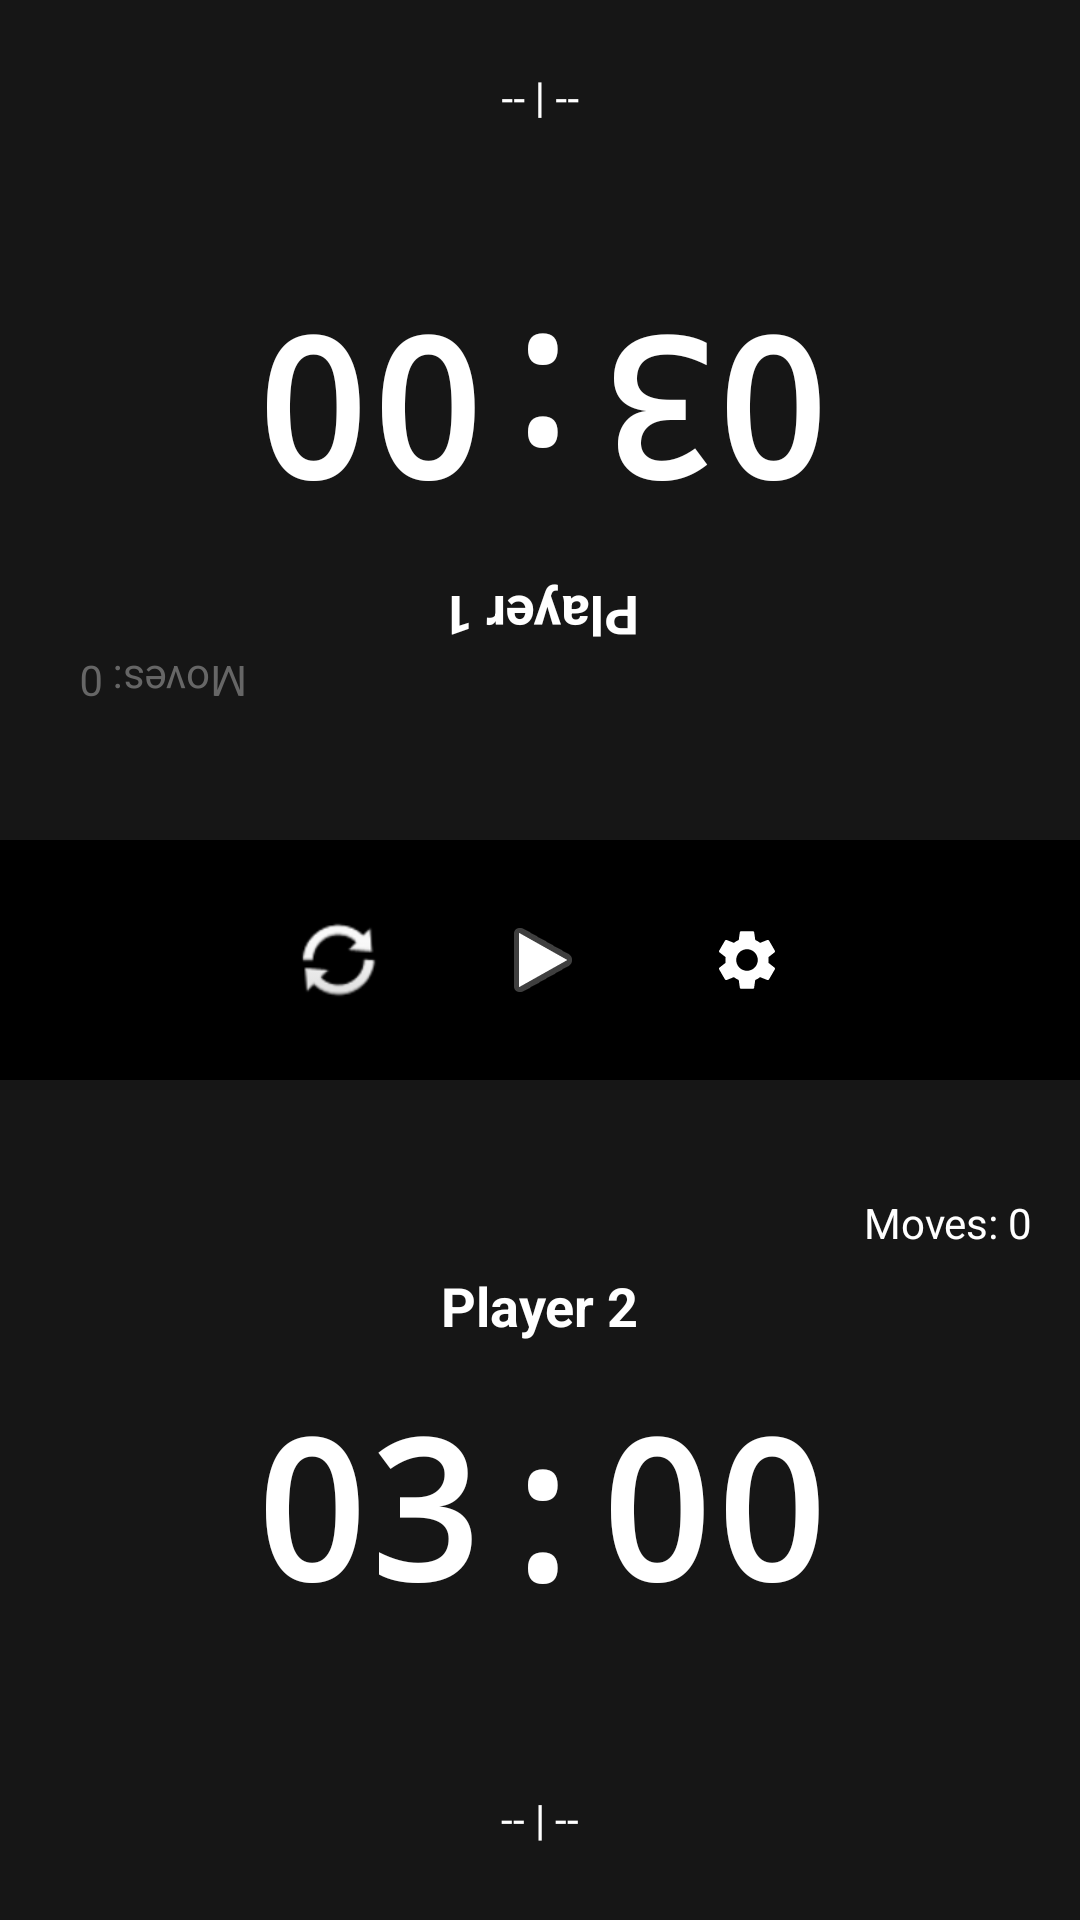

Screen size 1080x1920. Icon name, then its center in pixels as (x,y):
Reset: (339,960)
Settings: (747,960)
